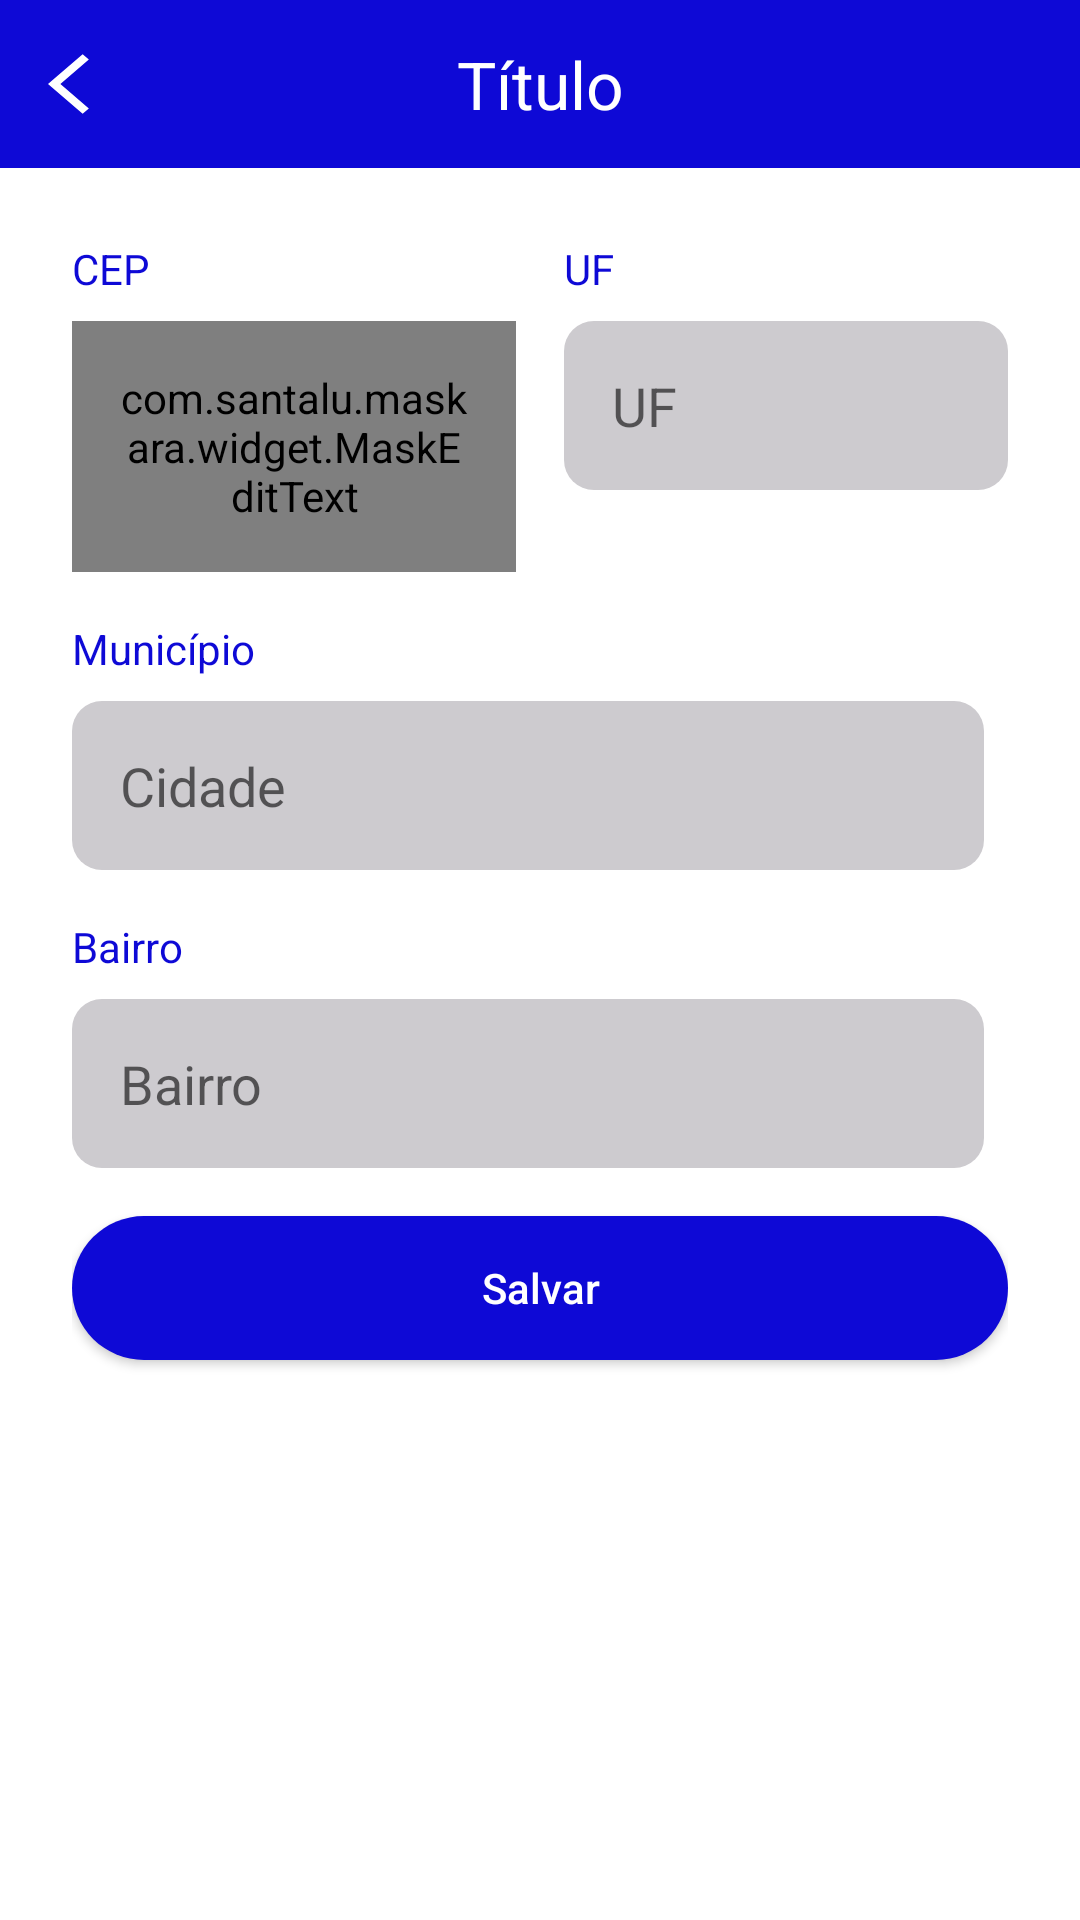

Screen size 1080w x 1920h. Icon name, then its center in pixels as point (x, y):
voltar: point (68, 84)
